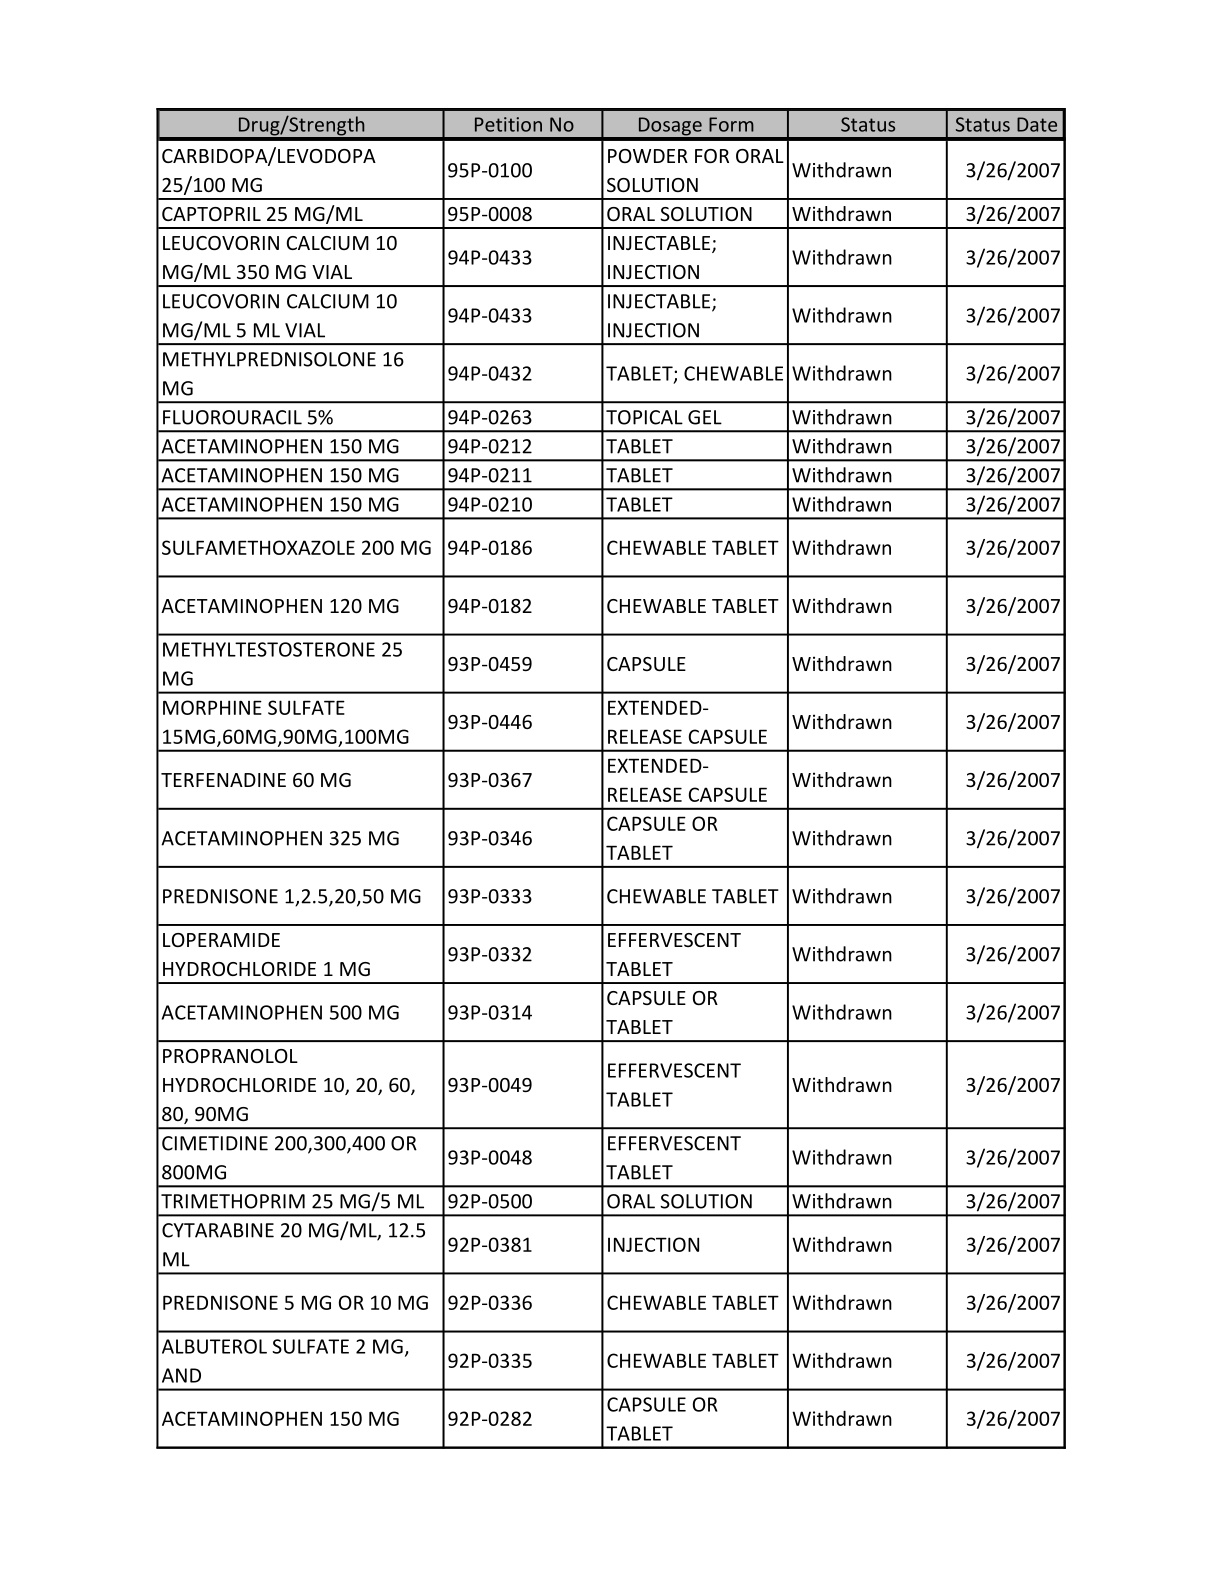full_lined: (156, 107, 1067, 1450)
